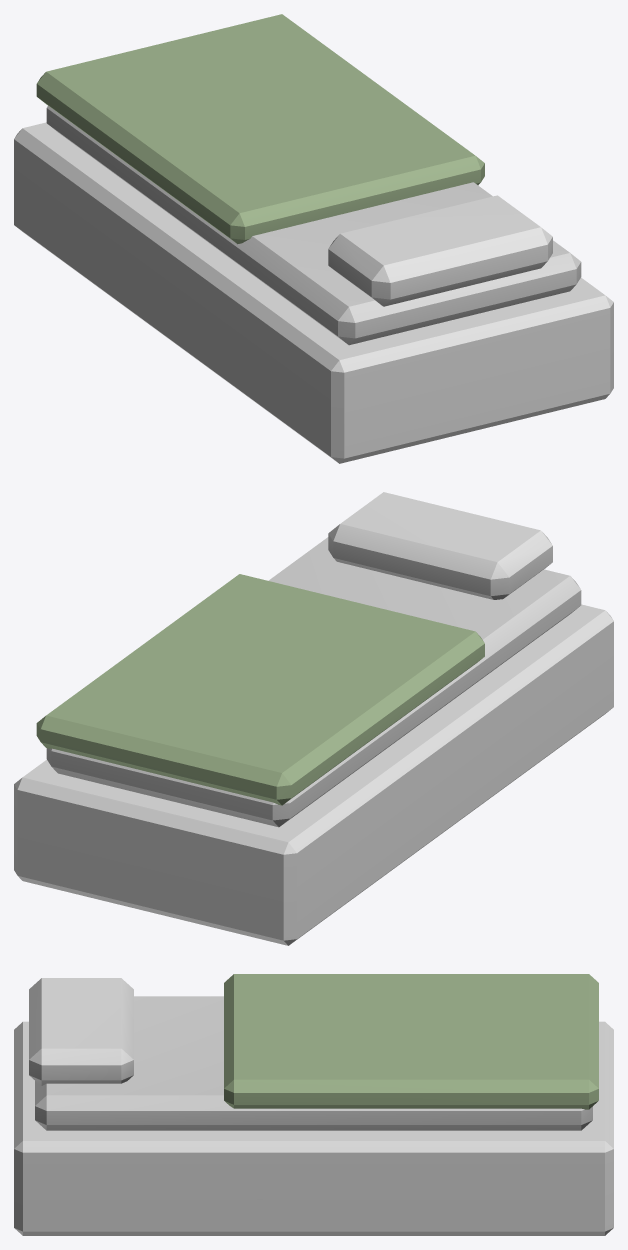
Rendered from bed_2.glb.
The picture shows the model from 3 angles, top to bottom: view 1: azimuth 30°, elevation 25°; view 2: azimuth 150°, elevation 25°; view 3: azimuth 270°, elevation 25°; orthographic projection. The views are drawn at different scales.
Visible parts, largest first — view 1: bed_blanket; view 2: bed_blanket; view 3: bed_blanket.
Part boxes in pixels (box(x1,y1,x2,y2)): bed_blanket: box(14, 14, 613, 463); bed_blanket: box(14, 492, 613, 945); bed_blanket: box(14, 974, 613, 1235).
Bounding box in the file's own units: 1 × 0.6 × 2.
